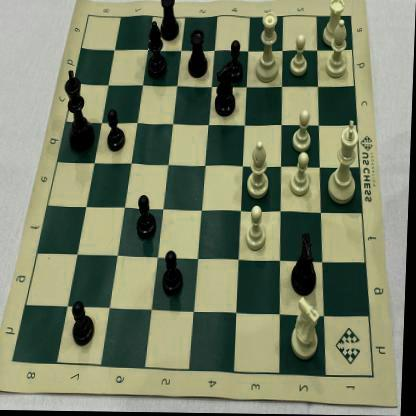black-bishop: (143, 20, 170, 82)
black-king: (61, 65, 100, 157)
black-knight: (287, 231, 324, 297), (209, 62, 240, 122)
black-pawn: (160, 244, 190, 300), (72, 298, 101, 352), (135, 190, 161, 244), (106, 106, 128, 155), (225, 36, 247, 82)
black-rook: (186, 26, 212, 82), (158, 0, 182, 45)
white-bishop: (244, 136, 276, 202), (322, 19, 355, 82)
white-king: (326, 117, 364, 207)
white-knight: (290, 292, 326, 366)
white-pawn: (244, 204, 272, 260), (287, 148, 317, 200), (286, 29, 312, 79), (290, 108, 317, 154)
white-queen: (252, 8, 285, 88)
white-rook: (318, 0, 349, 56)
